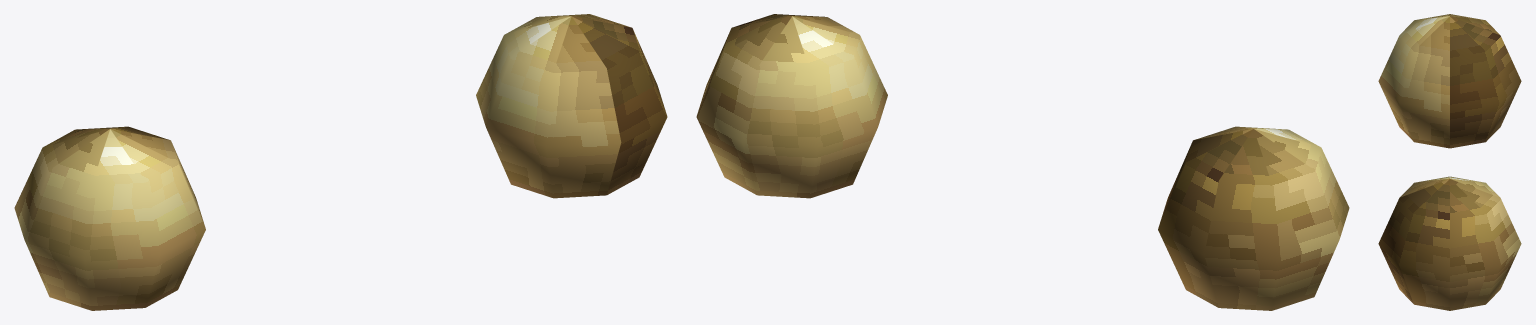
Rendered from helm_maur_earrings_2.glb.
The picture shows the model from 3 angles, left to right: view 1: azimuth 30°, elevation 25°; view 2: azimuth 150°, elevation 25°; view 3: azimuth 270°, elevation 25°; orthographic projection. The views are drawn at different scales.
Visible parts, largest first — view 1: helm_maur_earrings_2_part0; view 2: helm_maur_earrings_2_part0; view 3: helm_maur_earrings_2_part0.
Boxes of the visible parts, x1,y1,x2,y2 form: helm_maur_earrings_2_part0: [14, 14, 667, 310]; helm_maur_earrings_2_part0: [696, 14, 1349, 310]; helm_maur_earrings_2_part0: [1378, 14, 1521, 310].
Size of the model in its own units: 0.5809 by 0.1576 by 0.1576.
Materials: 1 (1 with a texture image).
